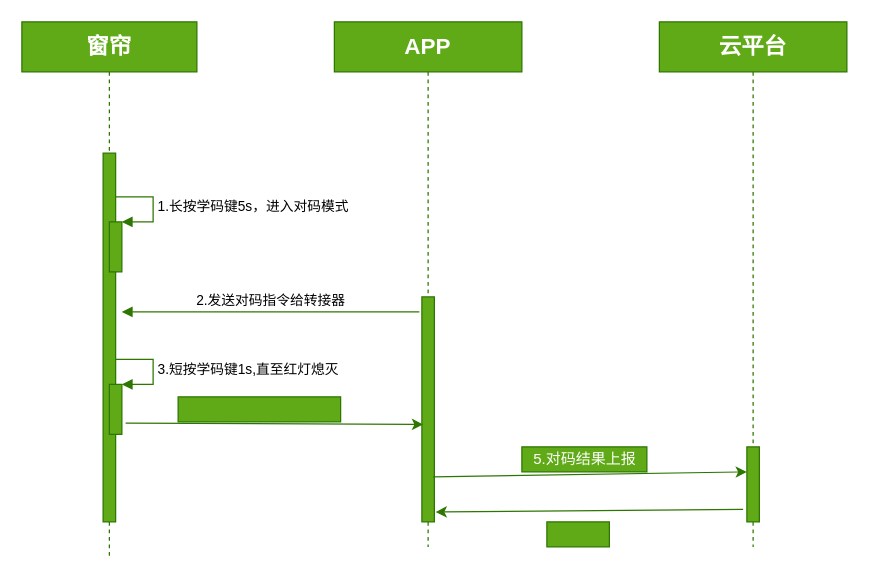
This 869x581 diagram has some shape labels left out. The shapes that lost their labels are listed below. From the top down, each one's centre as x and y in pixels, then its label:
At [259,409]: "4.返回对码结果给app".
At [577,534]: "6.响应".
